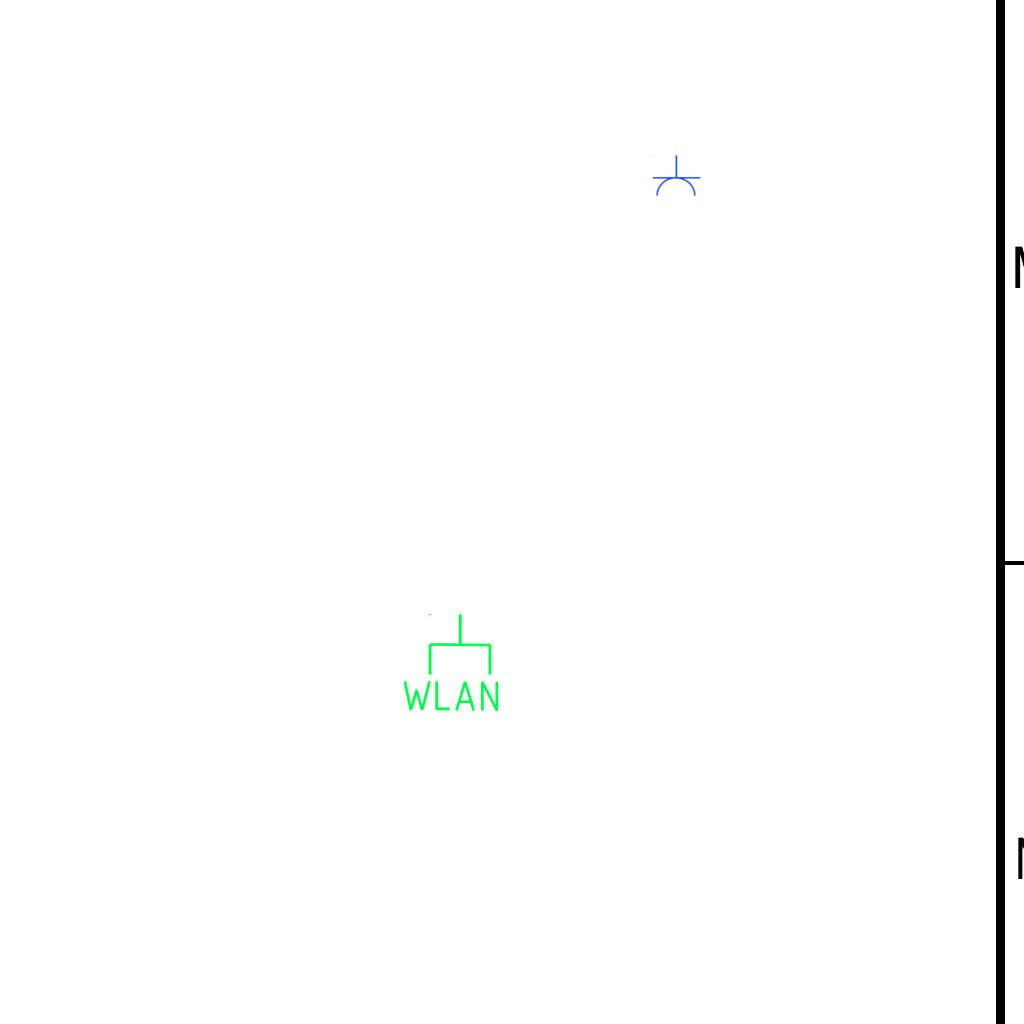Schukosteckdose_einfach: (651, 155, 701, 198)
WLAN: (398, 611, 503, 715)
